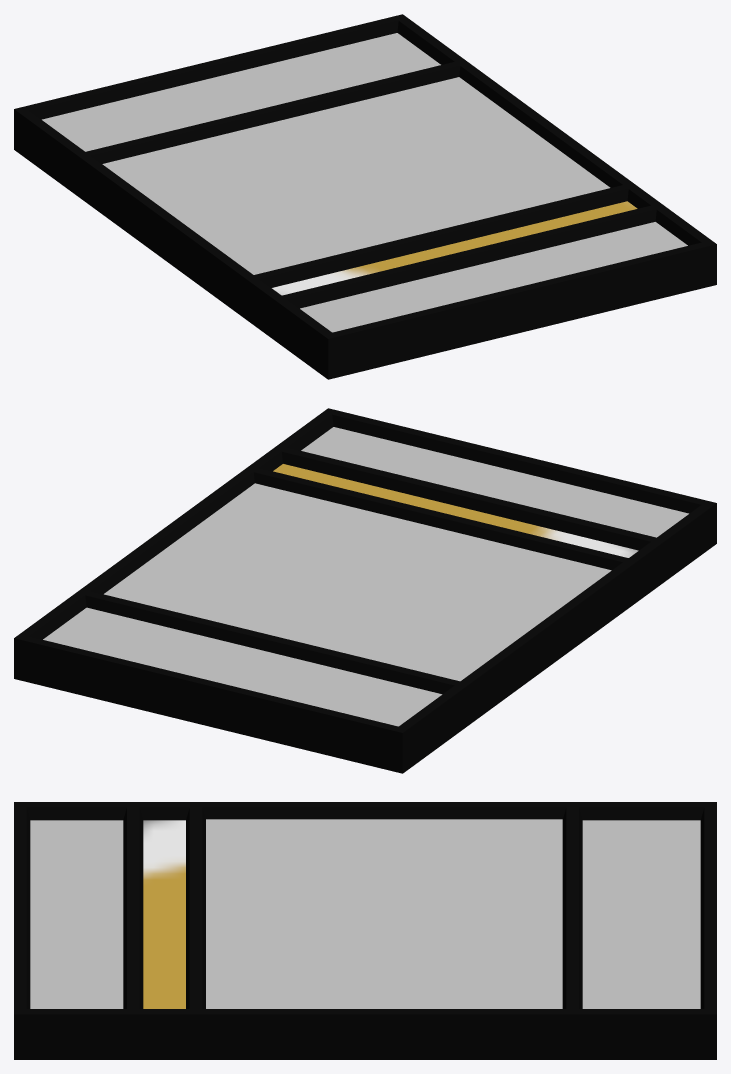
The model's file is player_card_v0001_0015.dae.
3 renders of one model, top to bottom at view 1: azimuth 30°, elevation 25°; view 2: azimuth 150°, elevation 25°; view 3: azimuth 270°, elevation 25°, orthographic. The views are drawn at different scales.
Visible parts, largest first — view 1: pc_hs_plane_mesh; view 2: pc_hs_plane_mesh; view 3: pc_hs_plane_mesh.
Part boxes in pixels (x1,y1,x2,y2): pc_hs_plane_mesh: (14,14,716,379); pc_hs_plane_mesh: (14,408,716,773); pc_hs_plane_mesh: (14,802,716,1059).
Size of the model in its own units: 400 by 40 by 560.
